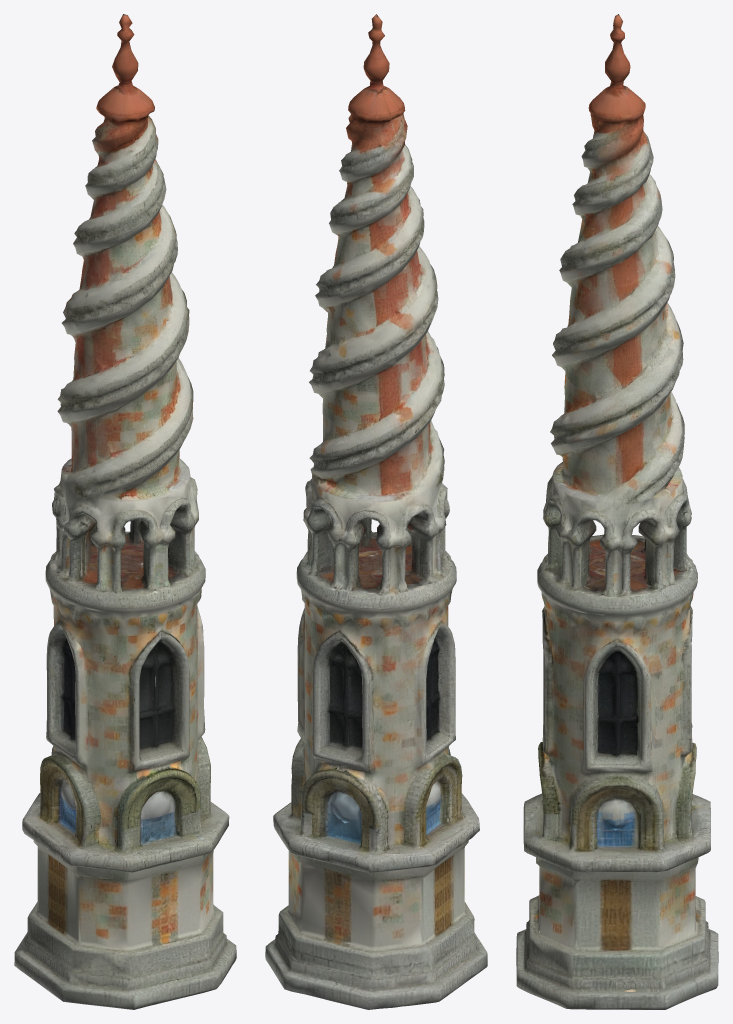
File: room_spire-web.glb
3 views of the same model, side by side, from view 1: azimuth 30°, elevation 25°; view 2: azimuth 150°, elevation 25°; view 3: azimuth 270°, elevation 25° (orthographic).
Size of the model in its own units: 0.3845 by 2 by 0.3843.
Materials: 1 (1 with a texture image).
